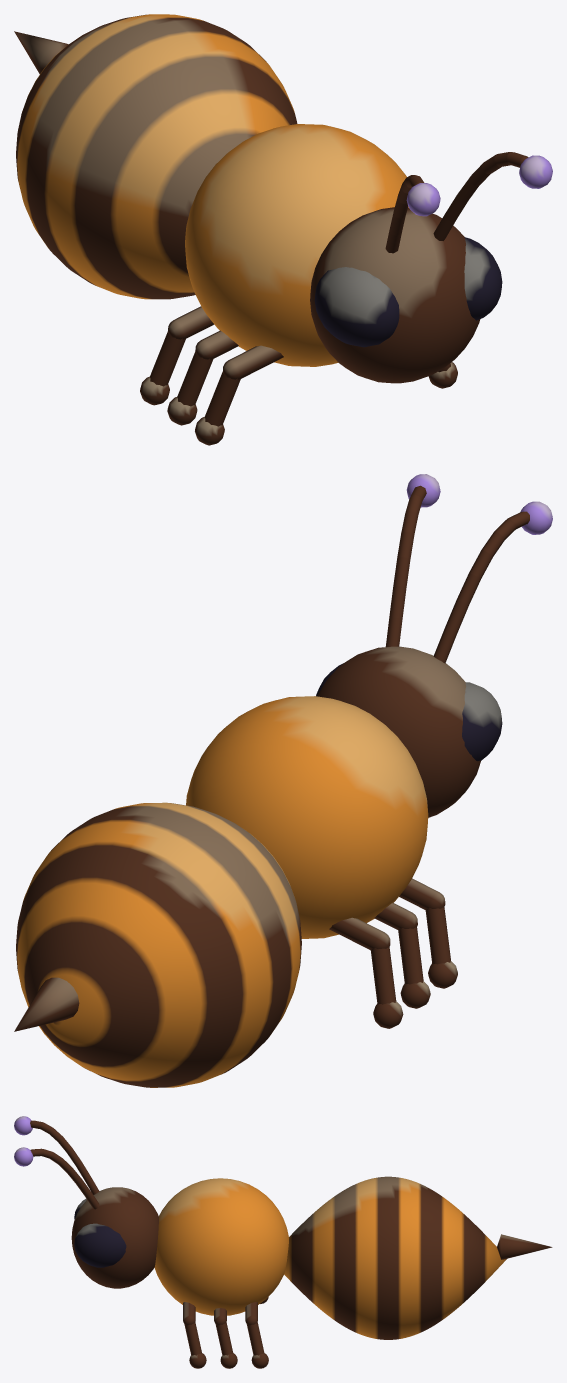
Rendered from bumblebee-starfighter-1.obj.
3 views of the same model, one above another, from view 1: azimuth 30°, elevation 25°; view 2: azimuth 150°, elevation 25°; view 3: azimuth 270°, elevation 25° (orthographic). The views are drawn at different scales.
Parts seen in each view (by area): view 1: starfighter; view 2: starfighter; view 3: starfighter.
Boxes of the visible parts, x1,y1,x2,y2 form: starfighter: (14,14,552,445); starfighter: (14,474,552,1087); starfighter: (14,1116,552,1368).
Bounding box in the file's own units: 78.86 × 104 × 250.
